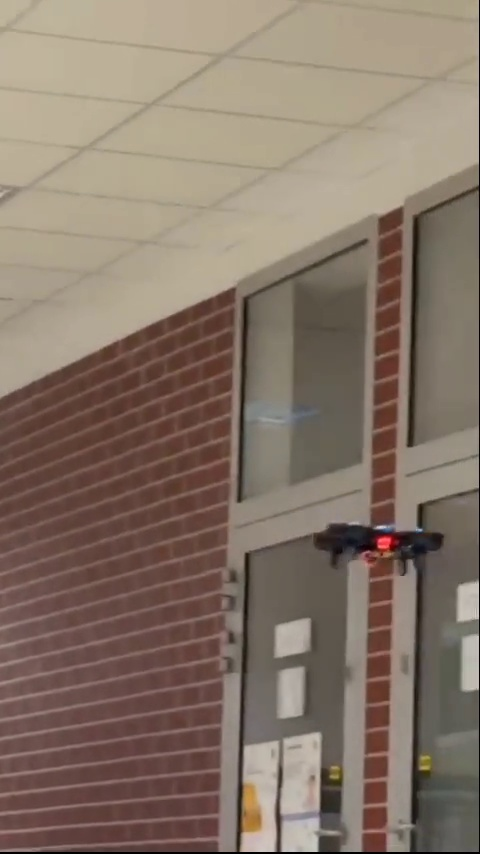drone: (313, 521, 445, 566)
